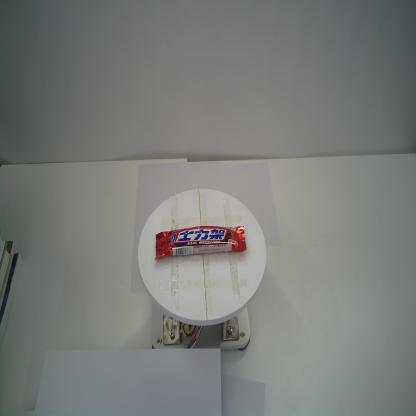Chocolate: (154, 225, 247, 262)
